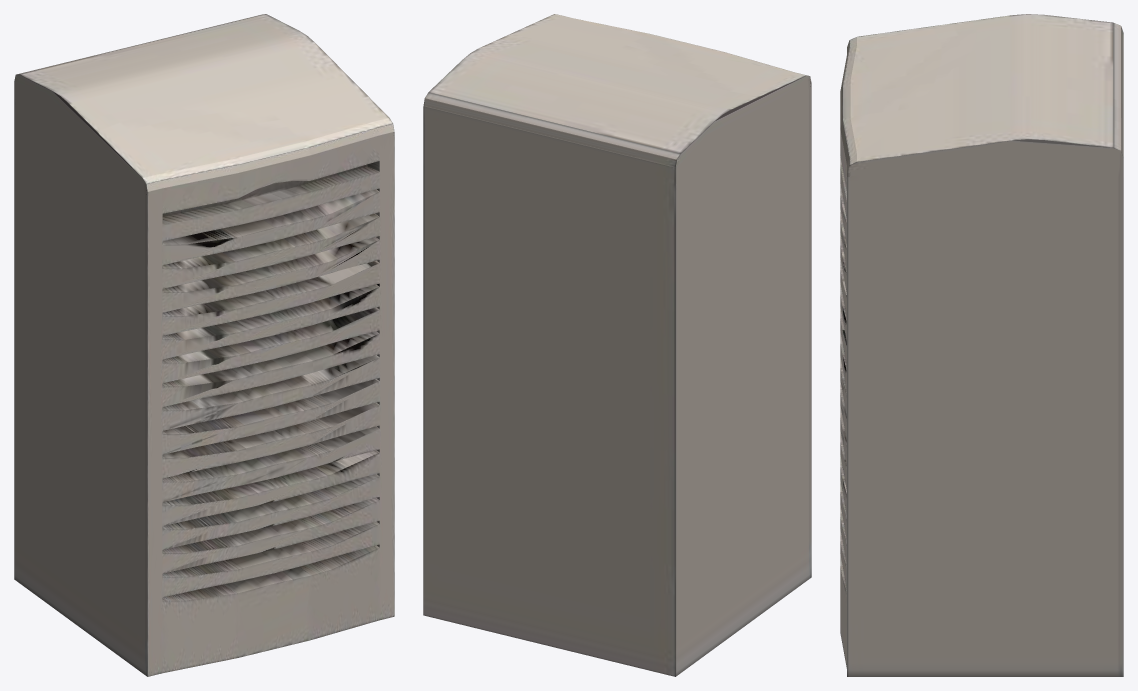
3 views of the same model, side by side, from view 1: azimuth 30°, elevation 25°; view 2: azimuth 150°, elevation 25°; view 3: azimuth 270°, elevation 25° (orthographic). The views are drawn at different scales.
Parts seen in each view (by area): view 1: chushiji_0; view 2: chushiji_0; view 3: chushiji_0.
Part boxes in pixels (box(x1,y1,x2,y2)): chushiji_0: box(14, 14, 394, 676); chushiji_0: box(423, 14, 811, 676); chushiji_0: box(840, 14, 1123, 676).
Bounding box in the file's own units: 0.45 × 0.9004 × 0.4301.
Materials: 1 (1 with a texture image).
